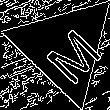M_NW: (30, 13, 98, 81)
